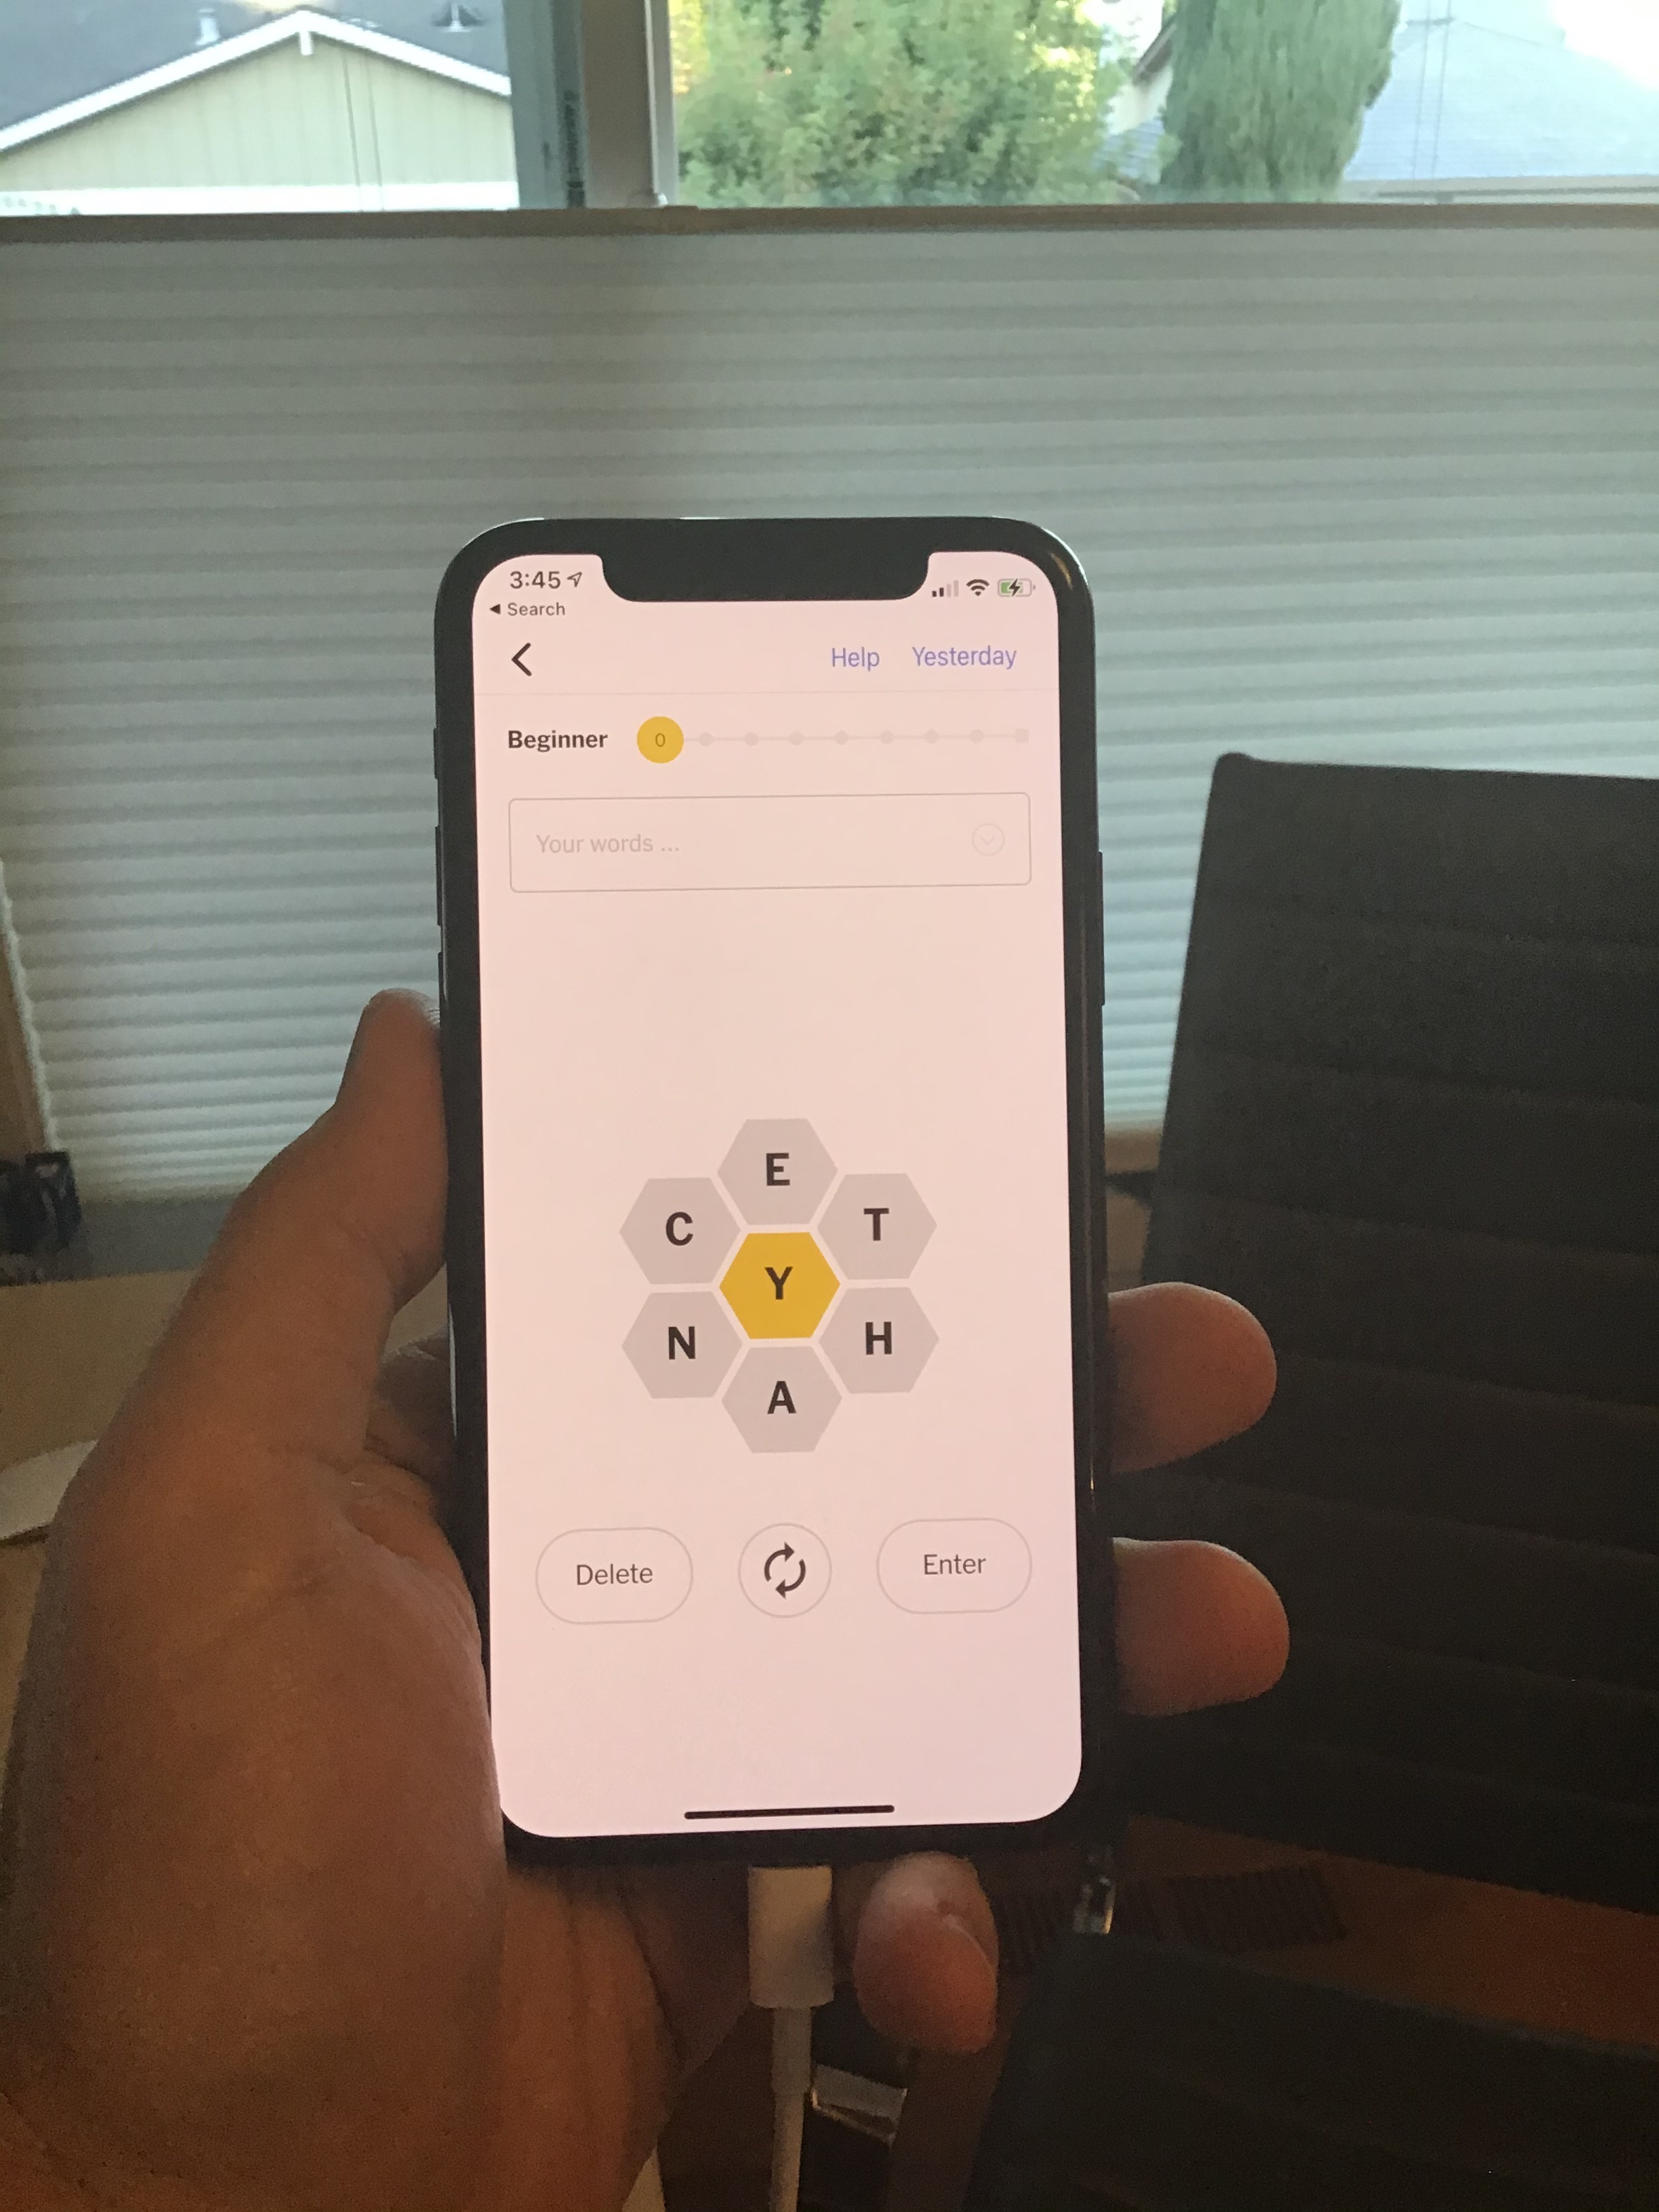Board: (591, 1097, 972, 1498)
